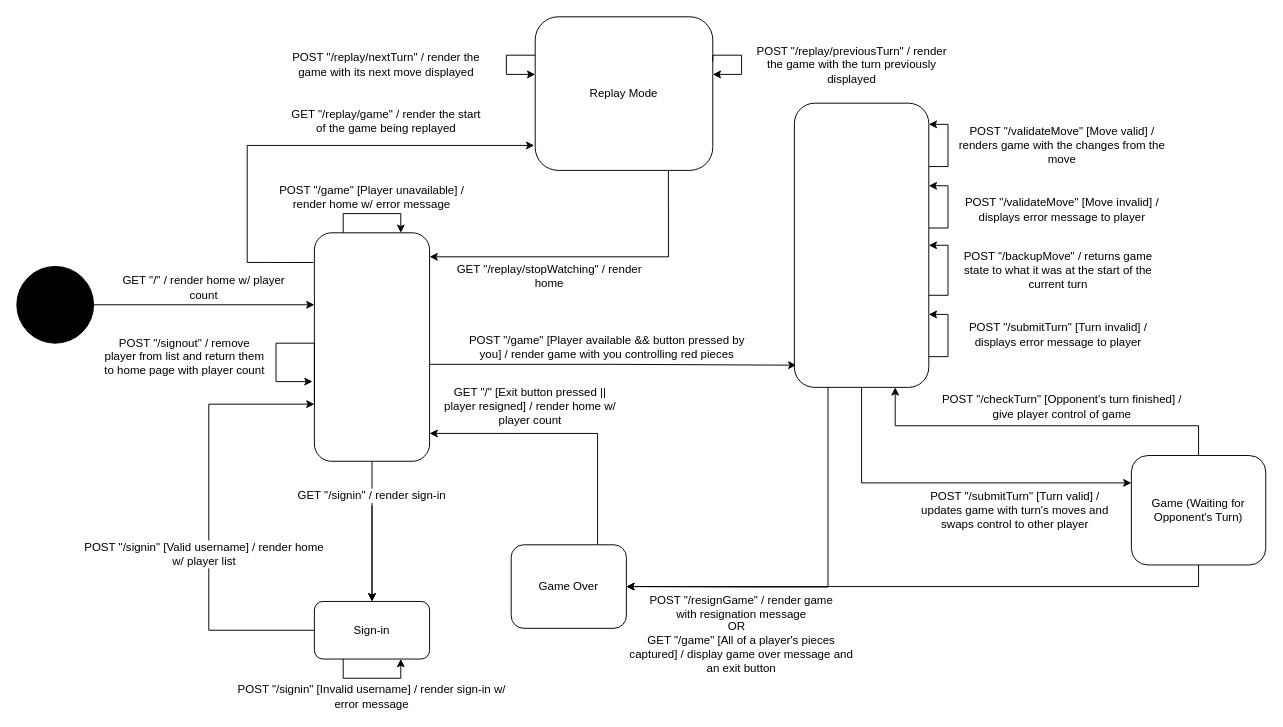
Some shapes in this 1283 by 727 pixel diagram are drawn without their labels. Here are the shapes that lost their labels. From the top down, the centre of each, then its label:
[861,244]: Game (On Your Turn)
[371,346]: Home
